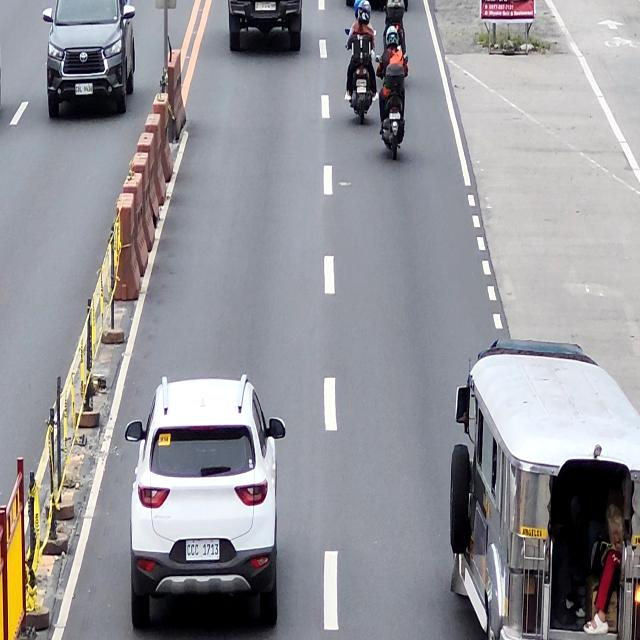Car: (126, 375, 286, 630), (228, 0, 302, 52)
Jeep: (449, 336, 639, 640)
License-Plate: (185, 539, 221, 561), (254, 1, 276, 10), (388, 112, 401, 120), (357, 85, 367, 93)
Motorcycle: (376, 52, 408, 159), (346, 26, 376, 125)
